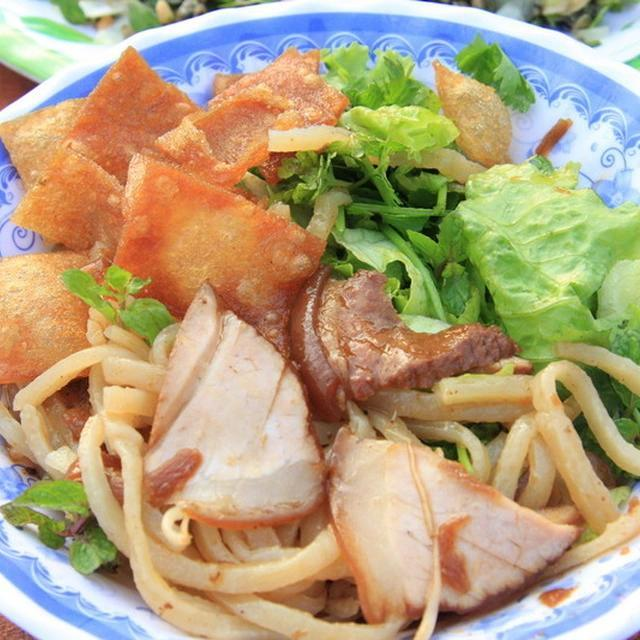banh da: (2, 42, 272, 273), (95, 148, 332, 374), (151, 42, 353, 203), (0, 91, 142, 252), (0, 246, 114, 389), (430, 52, 518, 172)
mi: (339, 333, 640, 579), (0, 288, 187, 557), (109, 497, 420, 640)
mi quang: (0, 46, 640, 640)
thit heo: (312, 422, 590, 632), (126, 275, 332, 534), (284, 262, 522, 428)
